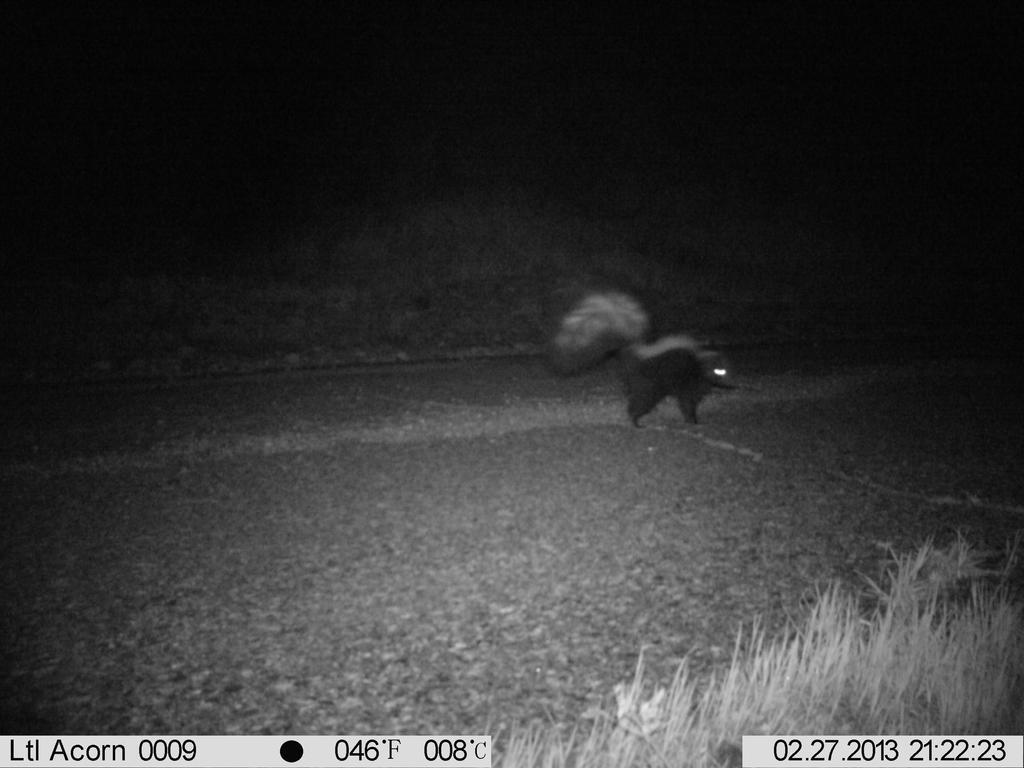skunk: (539, 276, 762, 445)
